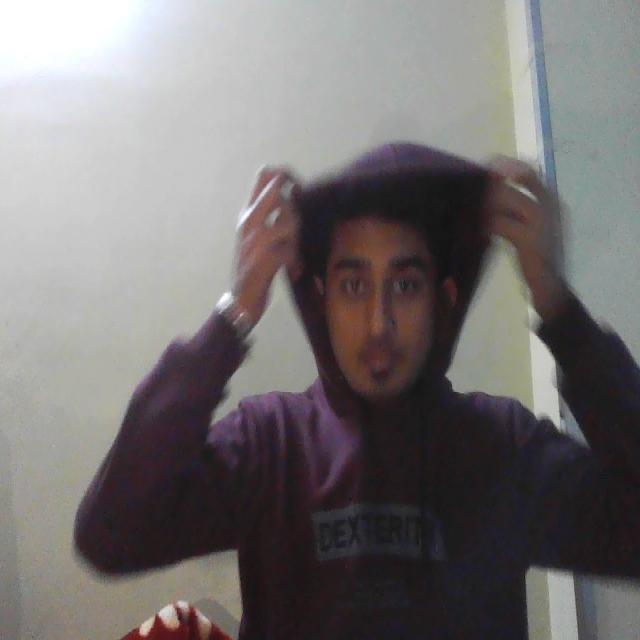real: (303, 132, 461, 431)
